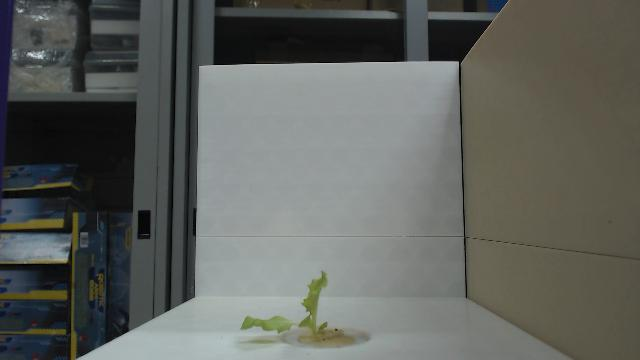Seedling Stage: (240, 268, 334, 342)
